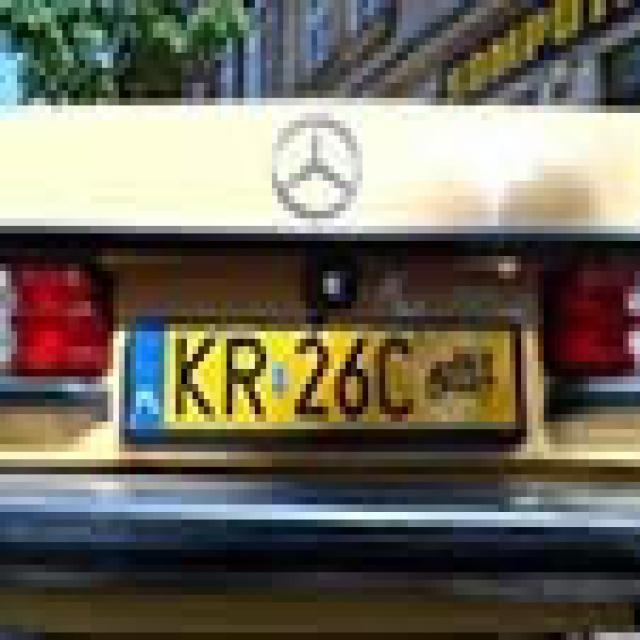pl_license_plate: (124, 316, 510, 429)
